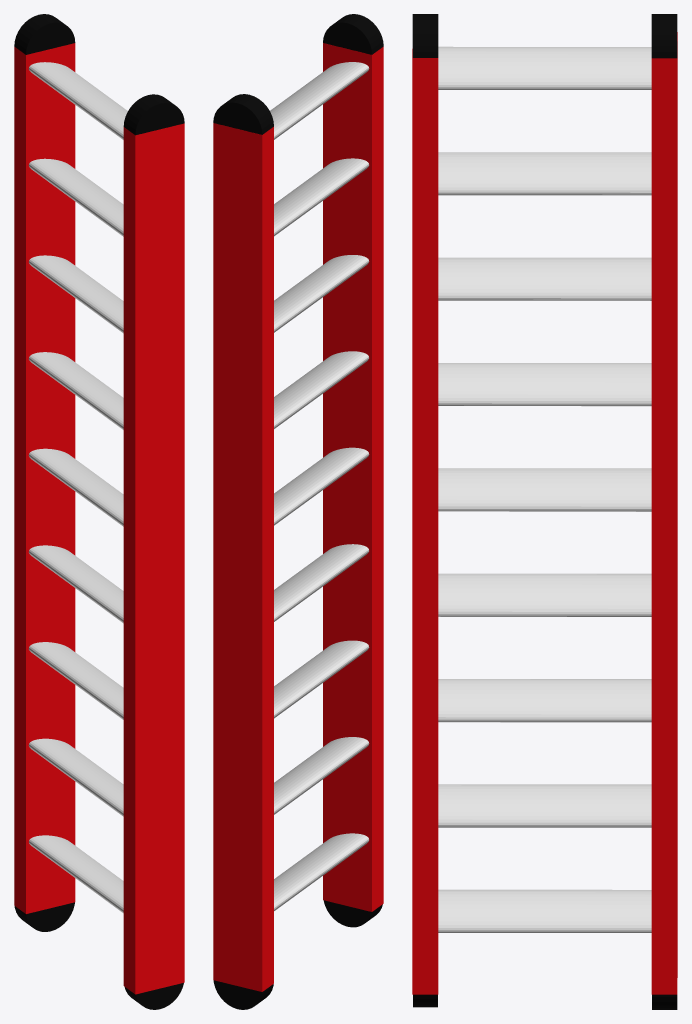
The model's file is Ladder.gltf.
The picture shows the model from 3 angles, left to right: view 1: azimuth 30°, elevation 25°; view 2: azimuth 150°, elevation 25°; view 3: azimuth 270°, elevation 25°; orthographic projection. The views are drawn at different scales.
Visible parts, largest first — view 1: Cube.001, Cube, Cylinder.014, Cylinder.005, Cylinder.007, Cylinder.012, Cylinder.013, Cylinder.010, Cylinder.008, Cylinder.003, Cylinder.004, Cylinder (+3 smaller); view 2: Cube, Cube.001, Cylinder.014, Cylinder.008, Cylinder.004, Cylinder.003, Cylinder.010, Cylinder.013, Cylinder.012, Cylinder.007, Cylinder.005, Cylinder (+3 smaller); view 3: Cube, Cube.001, Cylinder.004, Cylinder.005, Cylinder.007, Cylinder.008, Cylinder.010, Cylinder.012, Cylinder.013, Cylinder.003, Cylinder.014, Cylinder (+1 smaller).
Part boxes in pixels (x1,y1,x2,y2): Cube.001: (123, 123, 184, 994); Cube: (14, 43, 75, 913); Cylinder.014: (28, 62, 127, 139); Cylinder.005: (28, 255, 123, 333); Cylinder.007: (28, 545, 123, 623); Cylinder.012: (28, 738, 123, 816); Cylinder.013: (29, 835, 123, 913); Cylinder.010: (28, 448, 123, 526); Cylinder.008: (28, 642, 123, 719); Cylinder.003: (28, 352, 123, 429); Cylinder.004: (28, 158, 123, 236); Cylinder: (14, 14, 75, 54); Cube: (213, 123, 273, 991); Cube.001: (323, 43, 383, 911); Cylinder.014: (270, 62, 369, 139); Cylinder.008: (274, 640, 369, 718); Cylinder.004: (274, 158, 369, 236); Cylinder.003: (274, 351, 368, 428); Cylinder.010: (274, 447, 369, 525); Cylinder.013: (274, 833, 368, 910); Cylinder.012: (274, 737, 369, 814); Cylinder.007: (274, 544, 368, 621); Cylinder.005: (274, 255, 369, 332); Cylinder: (213, 94, 273, 134); Cube: (651, 32, 677, 994); Cube.001: (412, 49, 438, 994); Cylinder.004: (438, 152, 651, 195); Cylinder.005: (438, 257, 651, 300); Cylinder.007: (438, 573, 651, 616); Cylinder.008: (438, 679, 651, 722); Cylinder.010: (438, 468, 651, 511); Cylinder.012: (438, 784, 651, 827); Cylinder.013: (438, 889, 651, 932); Cylinder.003: (438, 363, 651, 406); Cylinder.014: (438, 46, 651, 89); Cylinder: (651, 14, 677, 58).
Bounding box in the file's own units: 0.2414 × 4.23 × 1.03.
